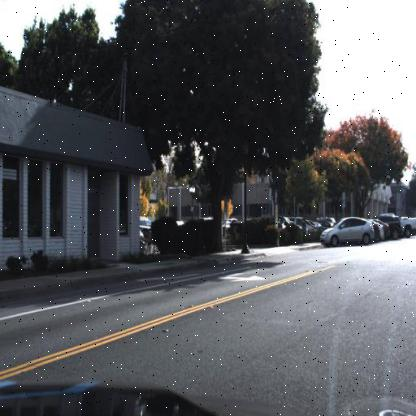car: (320, 216, 376, 247), (379, 212, 402, 239), (397, 214, 415, 242)
